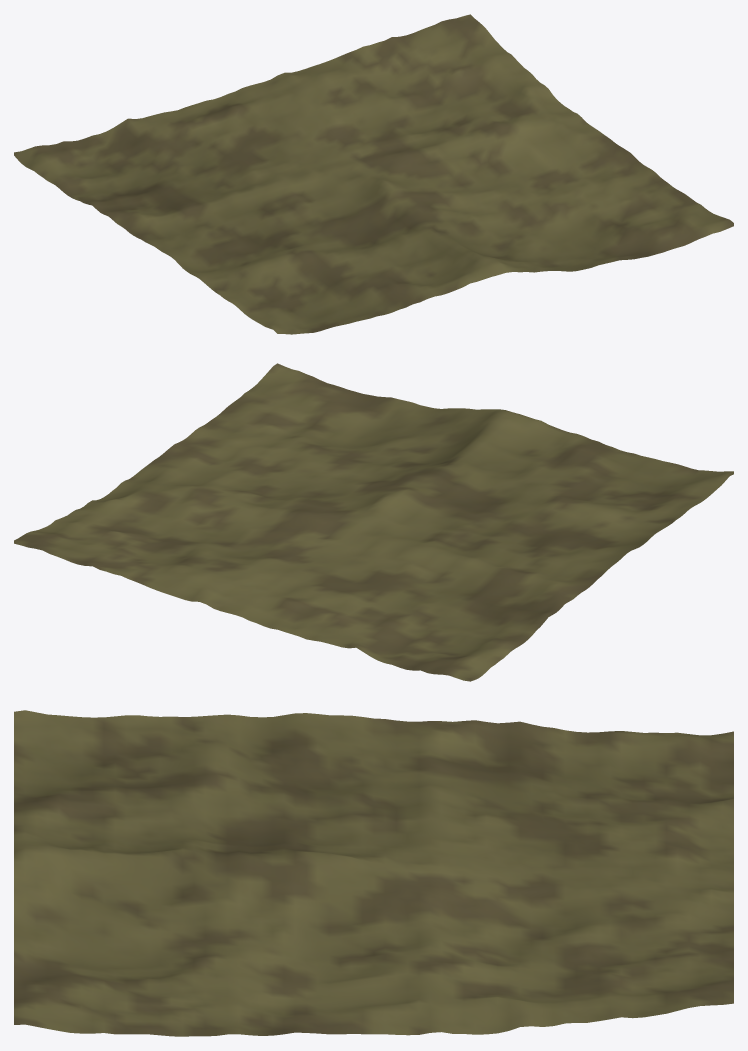
File: land_f_06_01.glb
3 renders of one model, top to bottom at view 1: azimuth 30°, elevation 25°; view 2: azimuth 150°, elevation 25°; view 3: azimuth 270°, elevation 25°, orthographic. The views are drawn at different scales.
Visible parts, largest first — view 1: land_f_06_01; view 2: land_f_06_01; view 3: land_f_06_01.
Boxes of the visible parts, x1,y1,x2,y2 form: land_f_06_01: [14, 14, 733, 334]; land_f_06_01: [14, 363, 733, 681]; land_f_06_01: [14, 710, 733, 1036].
Bounding box in the file's own units: 3840 × 271 × 3840.
